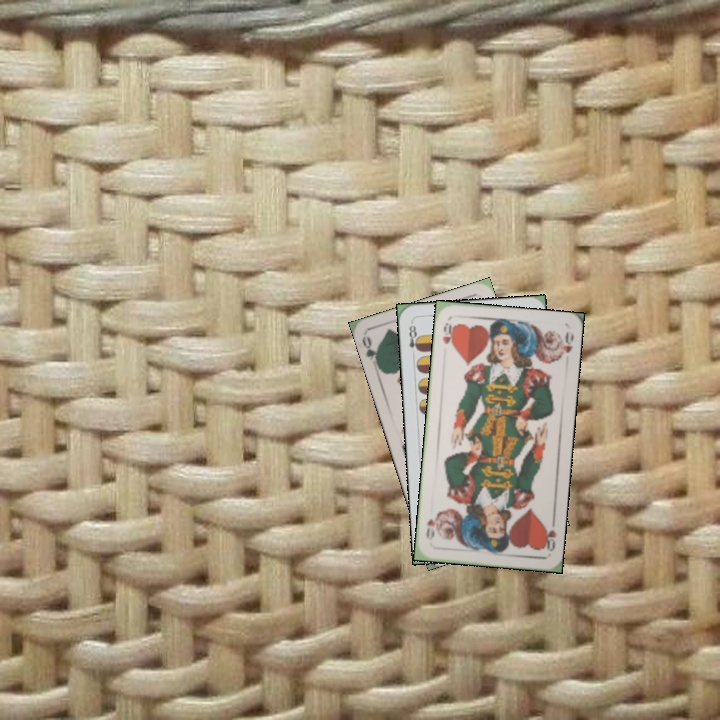E8: (405, 318, 423, 359)
GO: (358, 332, 381, 371)
HO: (539, 515, 560, 554), (438, 318, 457, 350)
